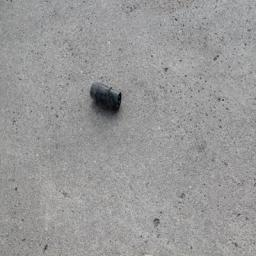FOD: (89, 81, 127, 117)
